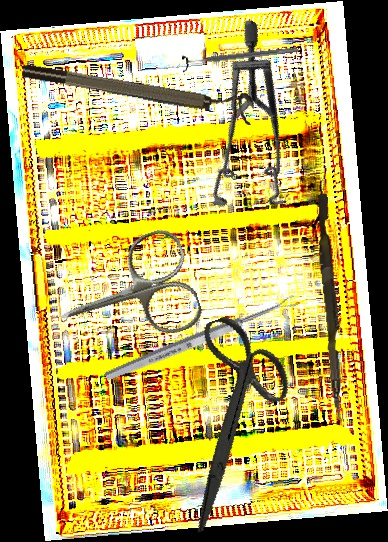Fixation Ring: (20, 50, 257, 126), (181, 40, 299, 74)
Iris Scissors: (132, 303, 327, 534), (44, 225, 207, 365)
Pusher: (311, 193, 351, 421)
Speculum: (150, 17, 360, 238)
Surgical Spoon: (103, 293, 299, 384)
